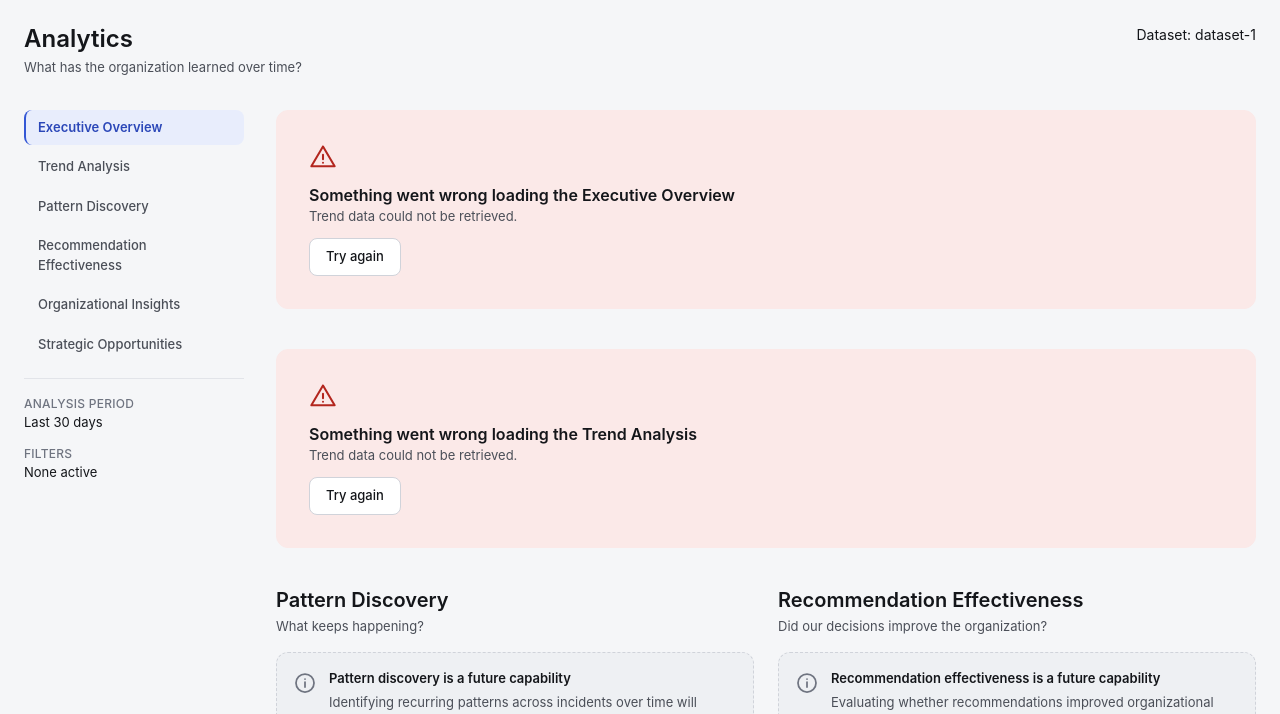
Test: Analytics real Gateway integration › Part 7: retry issues a genuine new GET /api/v1/analytics/trends request and renders real data on success
The width and height of the screenshot is (1280, 714).
Expected: the text "Something went wrong loading the Trend Analysis" is shown, [309,422,697,446]
Click the button "Try again" below "the Executive Overview" at (355, 257), box [309,238,401,276]
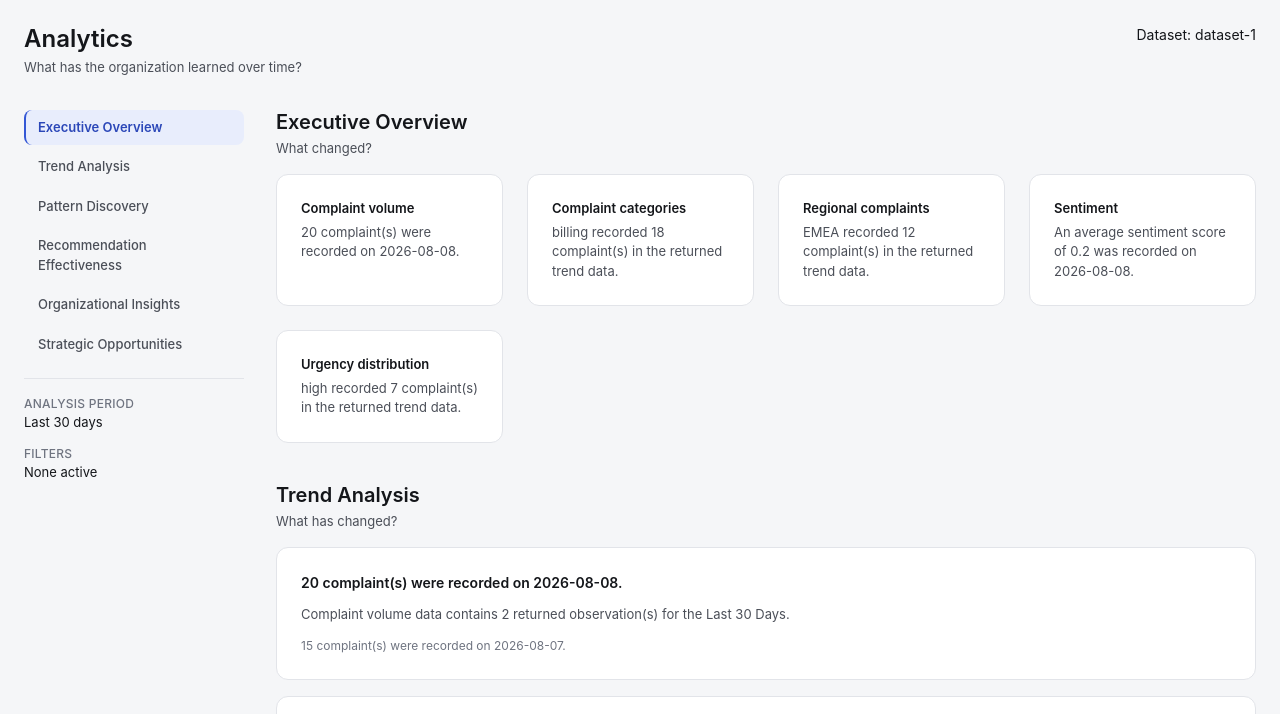
Result: the text "20 complaint(s) were recorded on 2026-08-08." below "Complaint categories" is shown at [301,224,460,259]
Result: the text "Something went wrong loading the Trend Analysis" is gone
Result: the text "Something went wrong loading the Executive Overview" is gone
